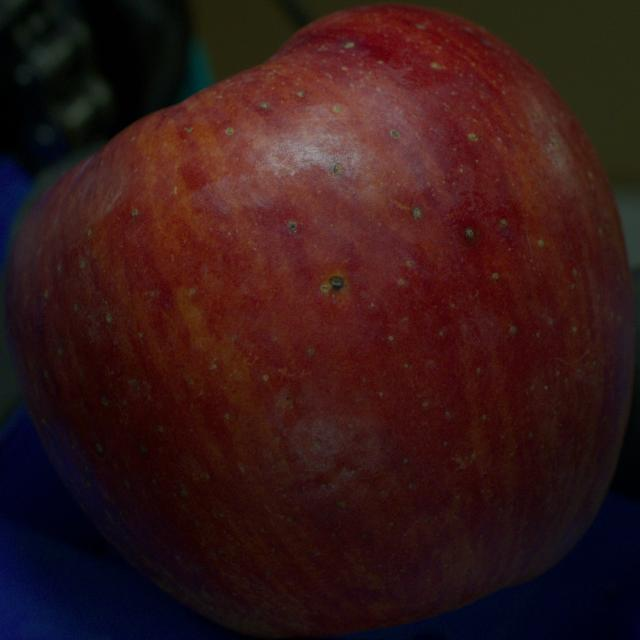apple: (5, 5, 634, 637)
